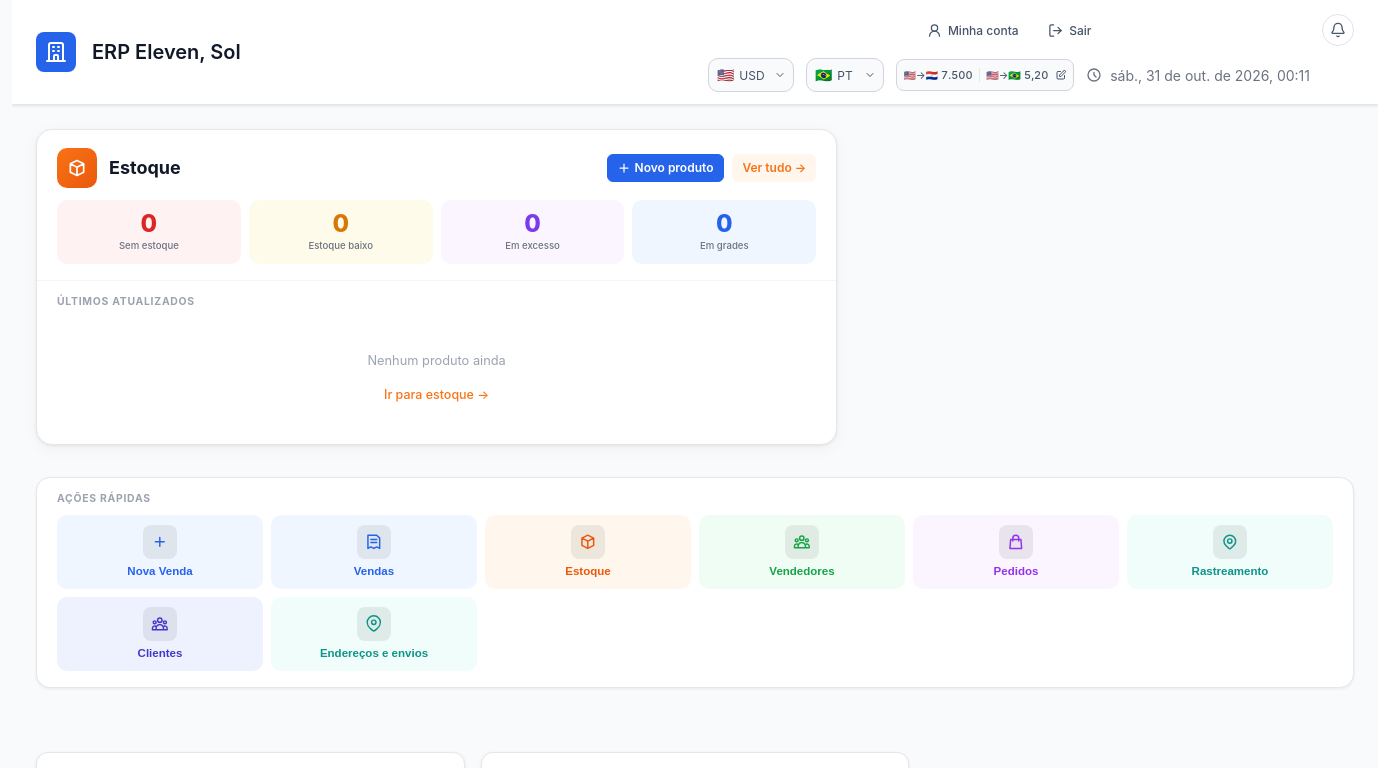
Test: Account navigation inside the dashboard header › keeps employee account/logout access while hiding owner-only links
Click the link to "/conta": (973, 30) left=926, top=22, right=1019, bottom=38
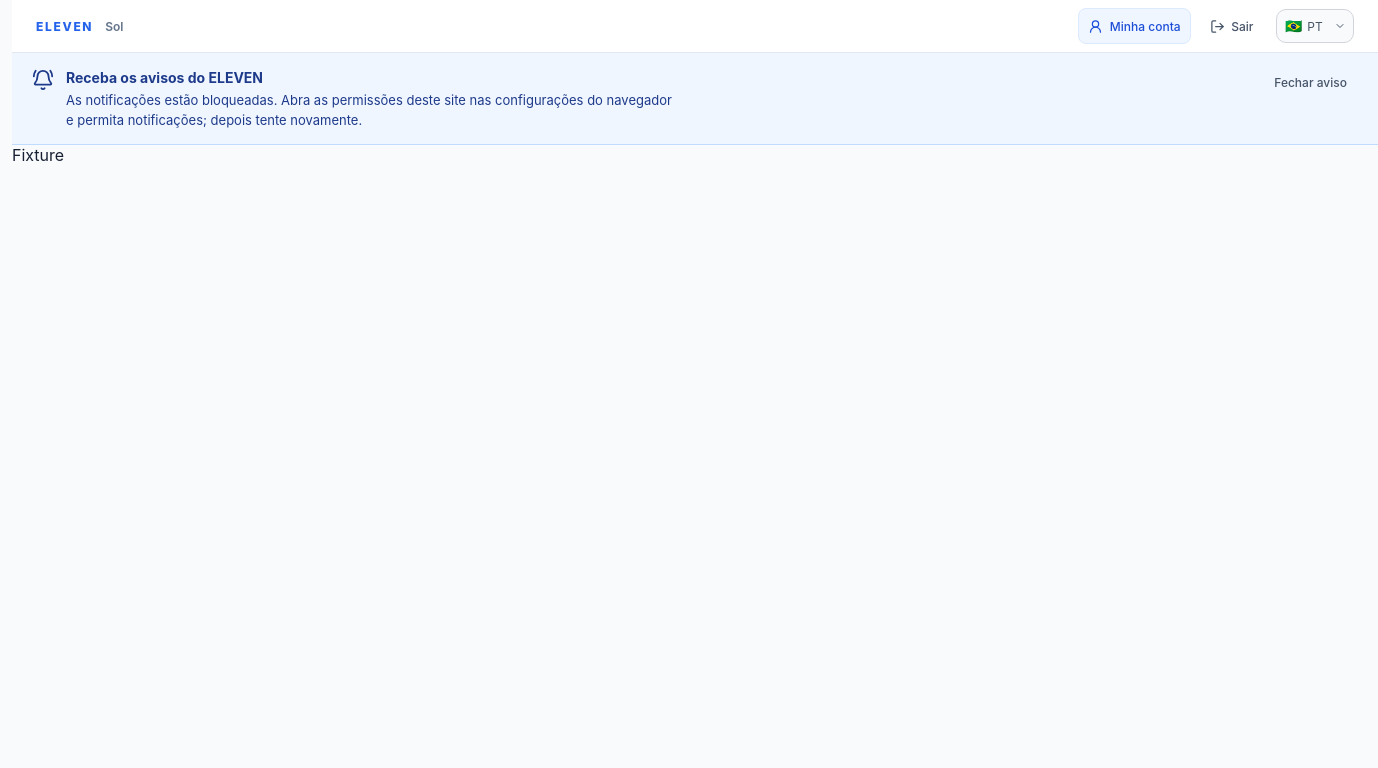
Expected: the number of navigation bars with class "account-navigation" is 1, left=12, top=0, right=1377, bottom=53
Result: the button with class "notification-bell" is gone
